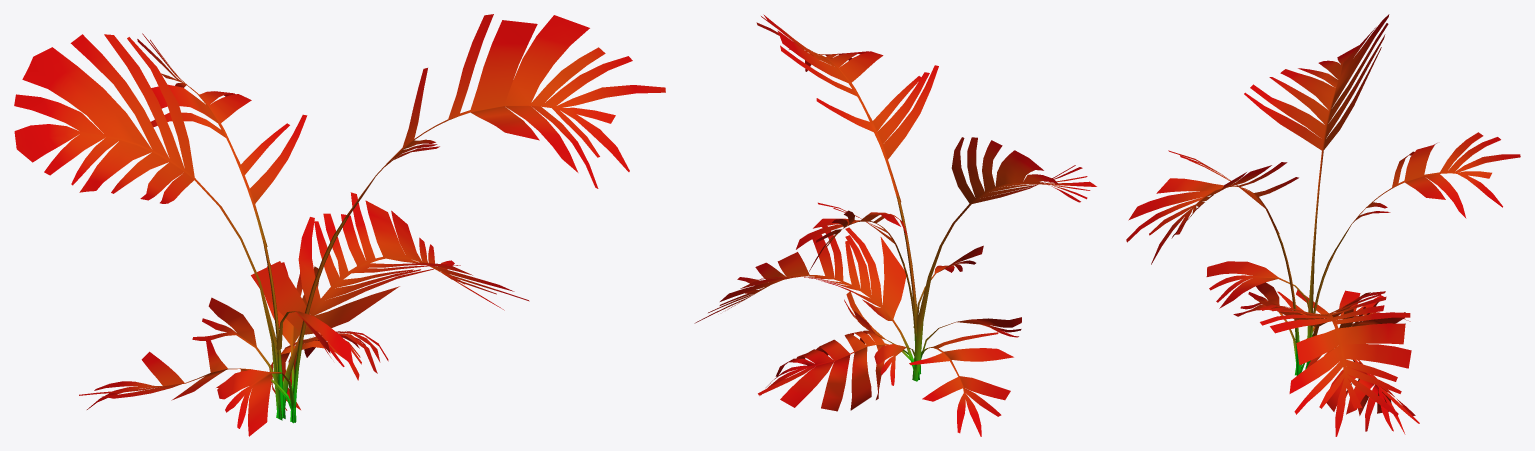
The model's file is PlantPalm08.fbx.
3 views of the same model, side by side, from view 1: azimuth 30°, elevation 25°; view 2: azimuth 150°, elevation 25°; view 3: azimuth 270°, elevation 25° (orthographic). The views are drawn at different scales.
Parts seen in each view (by area): view 1: _8b2b_Var4_LOD0; view 2: _8b2b_Var4_LOD0; view 3: _8b2b_Var4_LOD0.
Boxes of the visible parts, box(x1,y1,x2,y2) form: _8b2b_Var4_LOD0: box(14, 14, 665, 436); _8b2b_Var4_LOD0: box(694, 14, 1096, 436); _8b2b_Var4_LOD0: box(1126, 14, 1520, 436).
Size of the model in its own units: 203 by 150 by 169.
